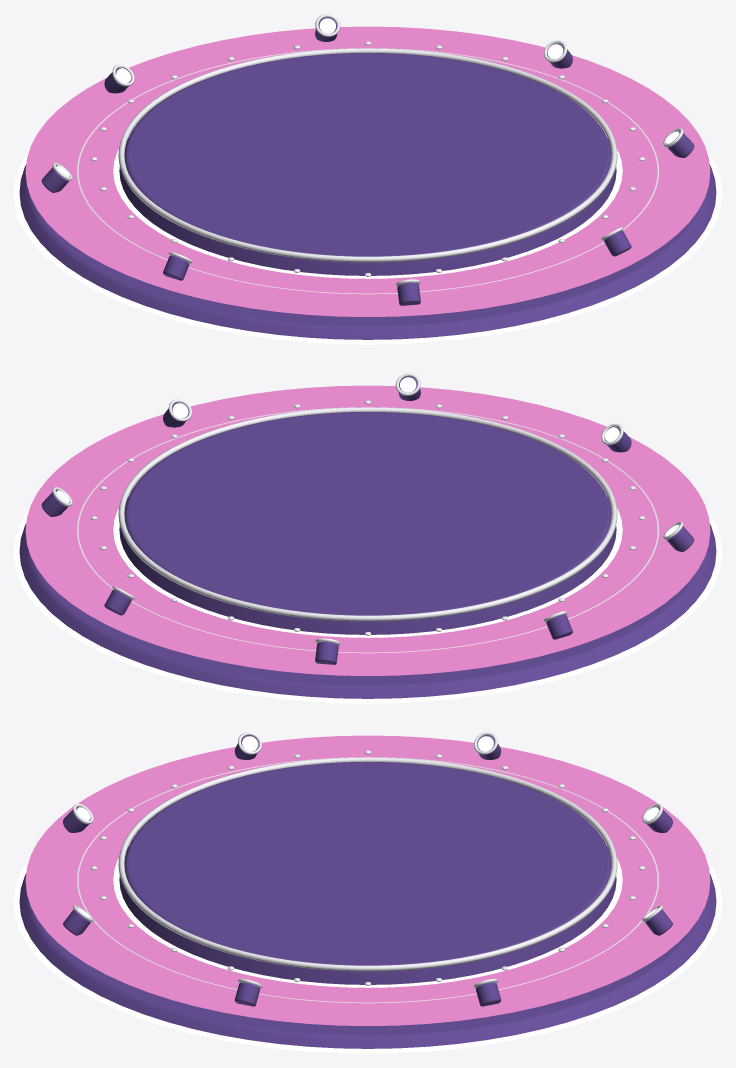
The model's file is podium-base.glb.
3 views of the same model, one above another, from view 1: azimuth 30°, elevation 25°; view 2: azimuth 150°, elevation 25°; view 3: azimuth 270°, elevation 25° (orthographic).
Visible parts, largest first — view 1: tier1, tier3lip, tier3, chrome1, led3, led1, chrome2; view 2: tier1, tier3lip, tier3, chrome1, led3, led1, chrome2; view 3: tier1, tier3lip, tier3, chrome1, led3, led1, chrome2.
Part boxes in pixels (x1,y1,x2,y2): tier1: (119,53,616,275); tier3lip: (25,26,710,316); tier3: (19,164,716,339); chrome1: (118,48,617,262); led3: (14,149,721,344); led1: (113,131,622,278); chrome2: (77,48,658,294); tier1: (119,412,616,634); tier3lip: (25,385,710,675); tier3: (19,523,716,698); chrome1: (118,407,617,621); led3: (14,508,721,703); led1: (113,490,622,637); chrome2: (77,407,658,653); tier1: (119,762,616,984); tier3lip: (25,735,710,1025); tier3: (19,873,716,1048); chrome1: (118,757,617,971); led3: (14,858,721,1053); led1: (113,840,622,987); chrome2: (77,757,658,1003).
Bounding box in the file's own units: 10.34 × 0.7963 × 10.34.
